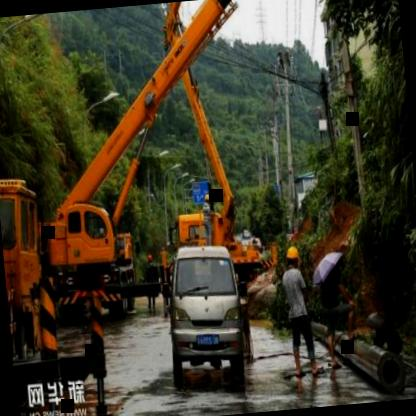helmet: (284, 244, 302, 272), (202, 192, 210, 204)
